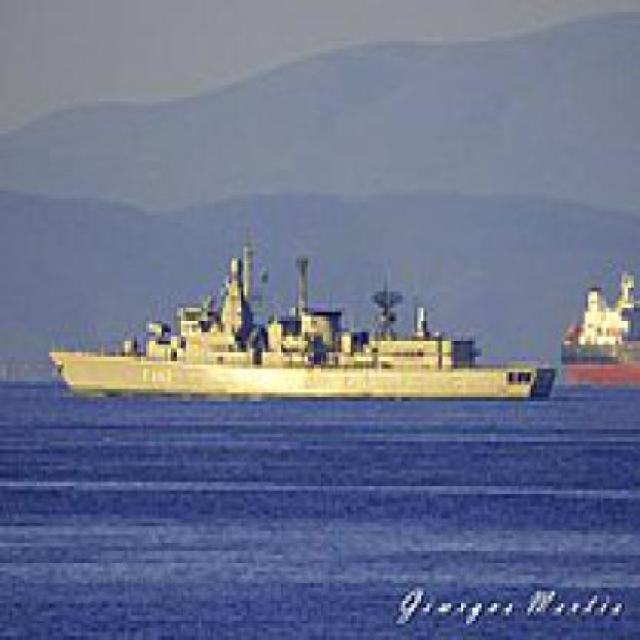warship2: (40, 183, 562, 410)
